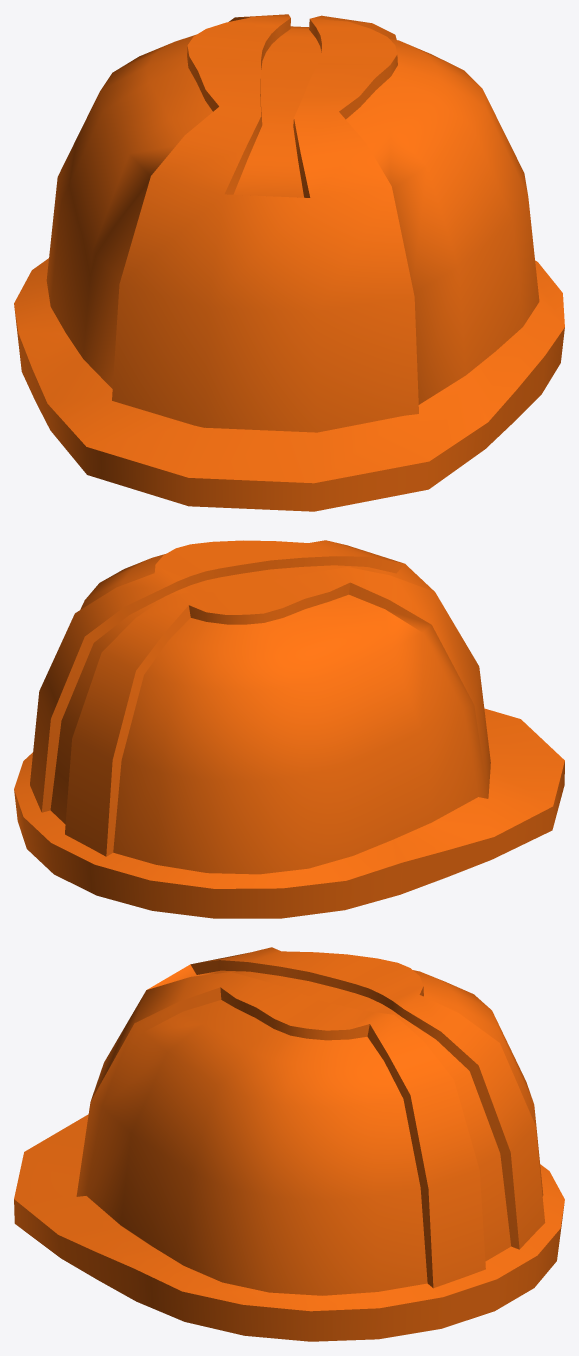
File: capacete.fbx
The picture shows the model from 3 angles, top to bottom: view 1: azimuth 30°, elevation 25°; view 2: azimuth 150°, elevation 25°; view 3: azimuth 270°, elevation 25°; orthographic projection. The views are drawn at different scales.
Parts seen in each view (by area): view 1: chapeu; view 2: chapeu; view 3: chapeu.
Boxes of the visible parts, x1,y1,x2,y2 form: chapeu: (14,14,564,511); chapeu: (14,540,564,918); chapeu: (14,947,564,1341).
Bounding box in the file's own units: 120 × 63.93 × 126.
